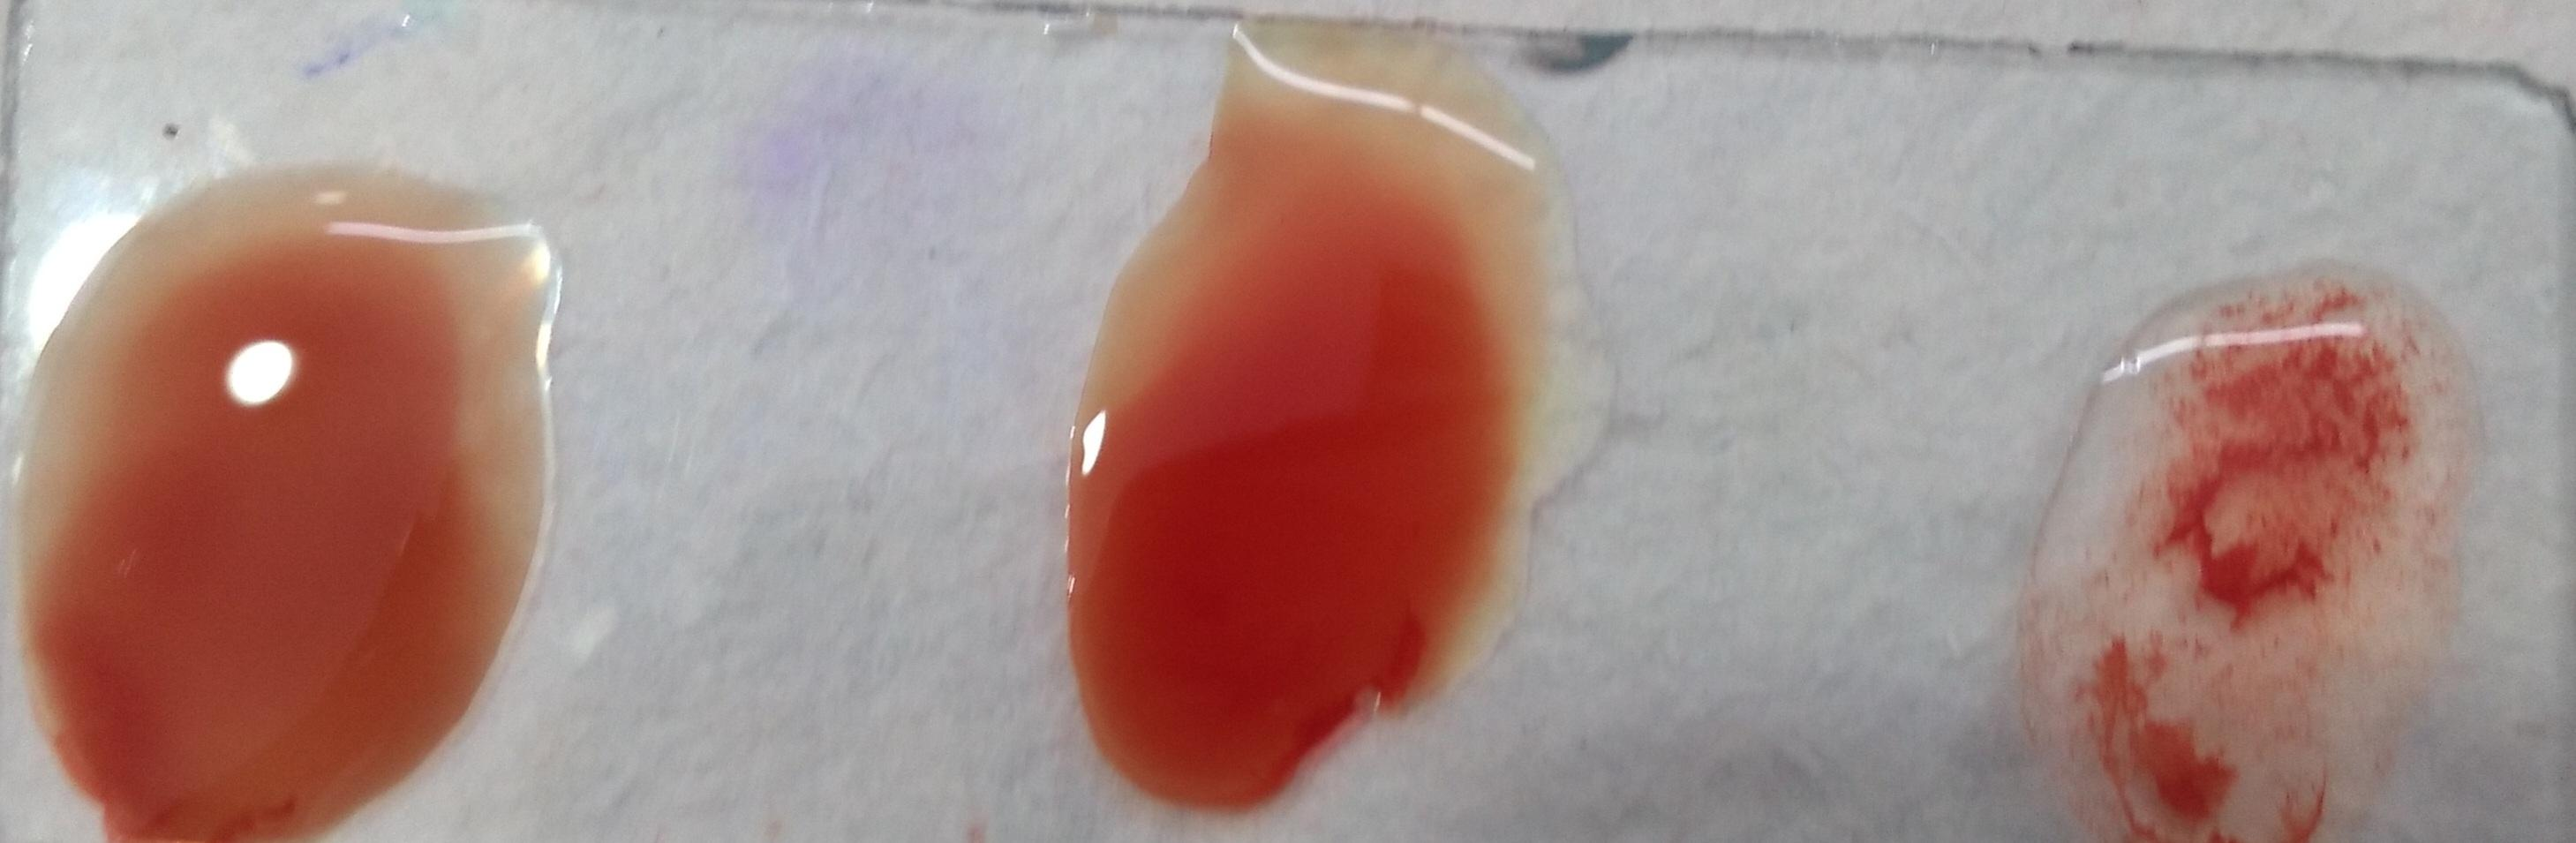D: (168, 0, 532, 555)
